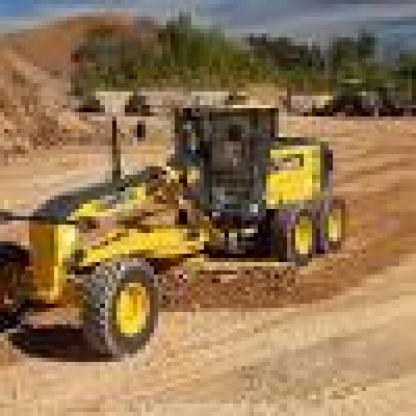bull_dozer/loader/grader: (12, 67, 370, 378)
